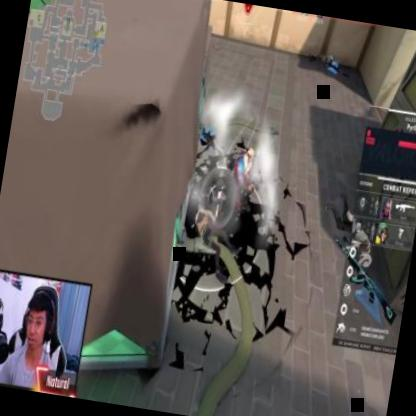enemy: (226, 143, 262, 216)
enemy_head: (245, 146, 255, 164)
